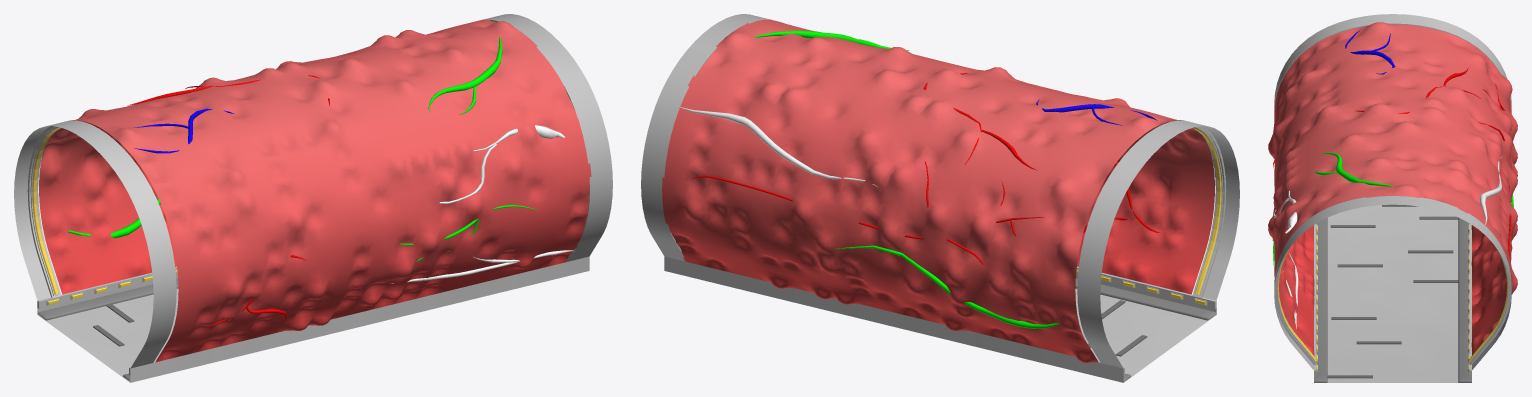
File: Terowongan_2_Lurus.fbx
3 views of the same model, side by side, from view 1: azimuth 30°, elevation 25°; view 2: azimuth 150°, elevation 25°; view 3: azimuth 270°, elevation 25° (orthographic). The views are drawn at different scales.
Parts seen in each view (by area): view 1: Terowongan 2_Lurus; view 2: Terowongan 2_Lurus; view 3: Terowongan 2_Lurus.
Part boxes in pixels (left/top/right/bottom): Terowongan 2_Lurus: left=14, top=14, right=612, bottom=382; Terowongan 2_Lurus: left=641, top=14, right=1239, bottom=382; Terowongan 2_Lurus: left=1268, top=14, right=1517, bottom=382.
Bounding box in the file's own units: 1000 × 450 × 554.
4 materials, 4 textured.
